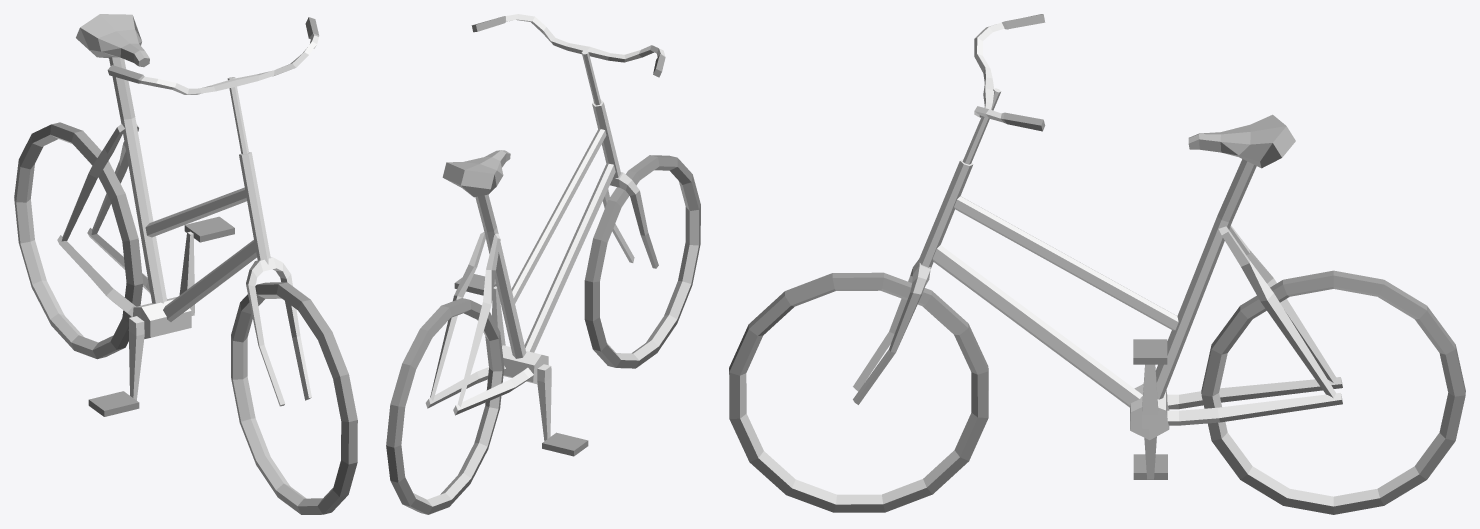
Rendered from dprop_bicycle.fbx.
The picture shows the model from 3 angles, left to right: view 1: azimuth 30°, elevation 25°; view 2: azimuth 150°, elevation 25°; view 3: azimuth 270°, elevation 25°; orthographic projection. The views are drawn at different scales.
Visible parts, largest first — view 1: bike_body, bike_tyre1, bike_tyre2, bike_handleBar, bike_fork, bike_pedal, bike_pedalFootR, bike_pedalFootL; view 2: bike_body, bike_tyre1, bike_tyre2, bike_handleBar, bike_fork, bike_pedal, bike_pedalFootR, bike_pedalFootL; view 3: bike_body, bike_tyre1, bike_tyre2, bike_handleBar, bike_fork, bike_pedal, bike_pedalFootL.
Boxes of the visible parts, x1,y1,x2,y2 form: bike_body: [57, 14, 270, 338]; bike_tyre1: [231, 282, 357, 514]; bike_tyre2: [14, 122, 143, 359]; bike_handleBar: [107, 17, 319, 154]; bike_fork: [246, 257, 311, 406]; bike_pedal: [128, 231, 194, 400]; bike_pedalFootR: [88, 391, 139, 416]; bike_pedalFootL: [184, 216, 234, 242]; bike_body: [425, 99, 620, 415]; bike_tyre1: [584, 155, 700, 368]; bike_tyre2: [386, 298, 504, 514]; bike_handleBar: [471, 14, 665, 105]; bike_fork: [602, 172, 658, 268]; bike_pedal: [492, 286, 551, 440]; bike_pedalFootR: [542, 432, 588, 456]; bike_pedalFootL: [454, 274, 496, 295]; bike_body: [916, 114, 1342, 440]; bike_tyre1: [729, 272, 988, 512]; bike_tyre2: [1201, 270, 1465, 514]; bike_handleBar: [962, 14, 1045, 164]; bike_fork: [853, 259, 930, 404]; bike_pedal: [1142, 364, 1158, 479]; bike_pedalFootL: [1133, 339, 1167, 364].
Size of the model in its own units: 58.3 by 163 by 109.
